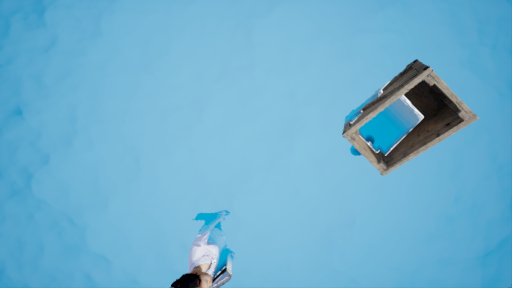person: (170, 207, 241, 288)
